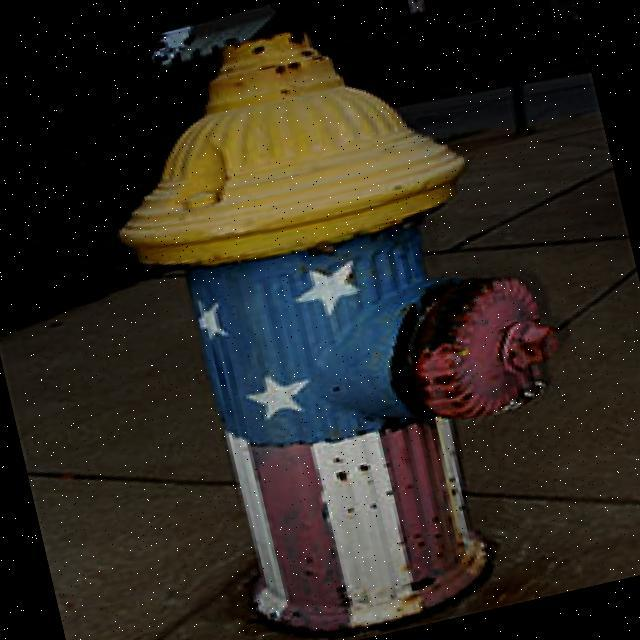fire_hydrant: (70, 0, 608, 640)
